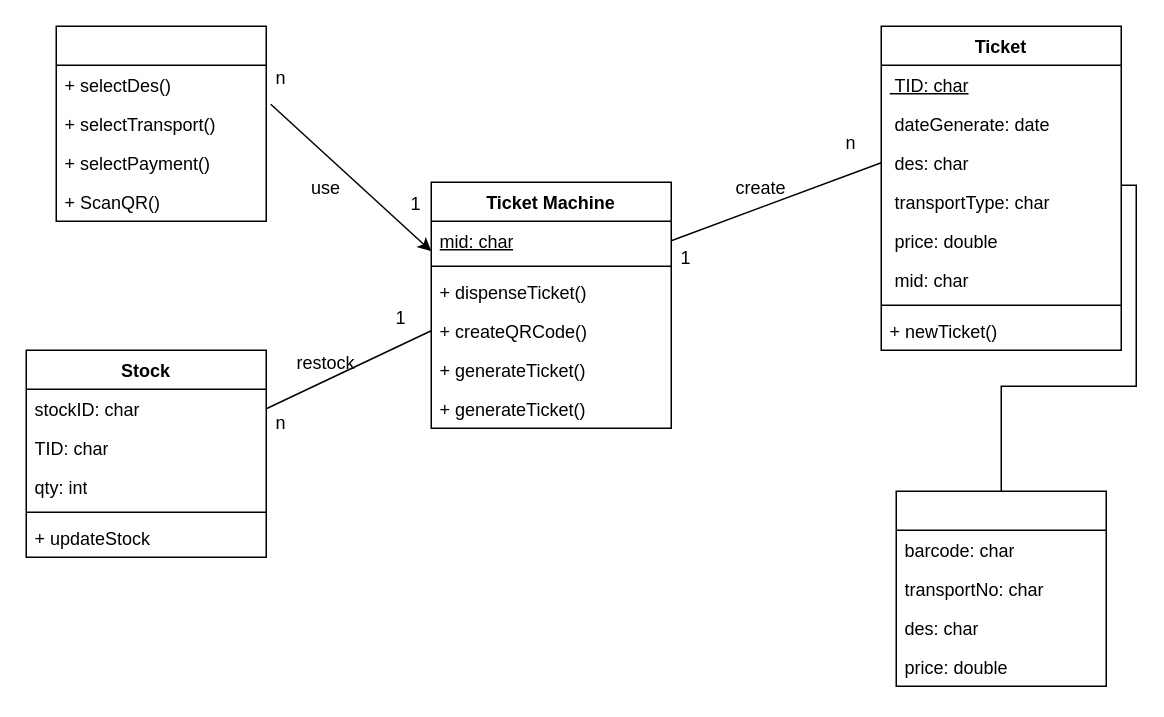
The diagram is 1164 pixels wide and 717 high, and some of its shapes have lost their labels. The box of each missing label's shape, as (x1, y1, x2, y2) in pixels:
TicketDetails: (895, 490, 1106, 686)
User: (55, 25, 266, 221)
